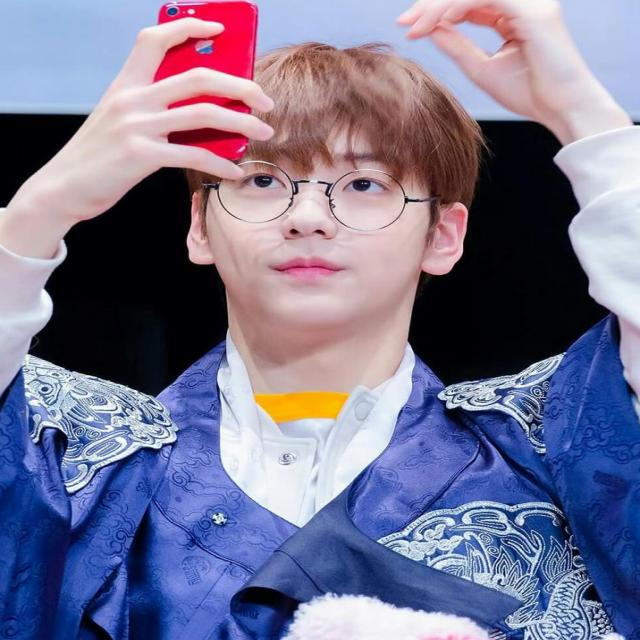Glasses: (190, 162, 450, 227)
